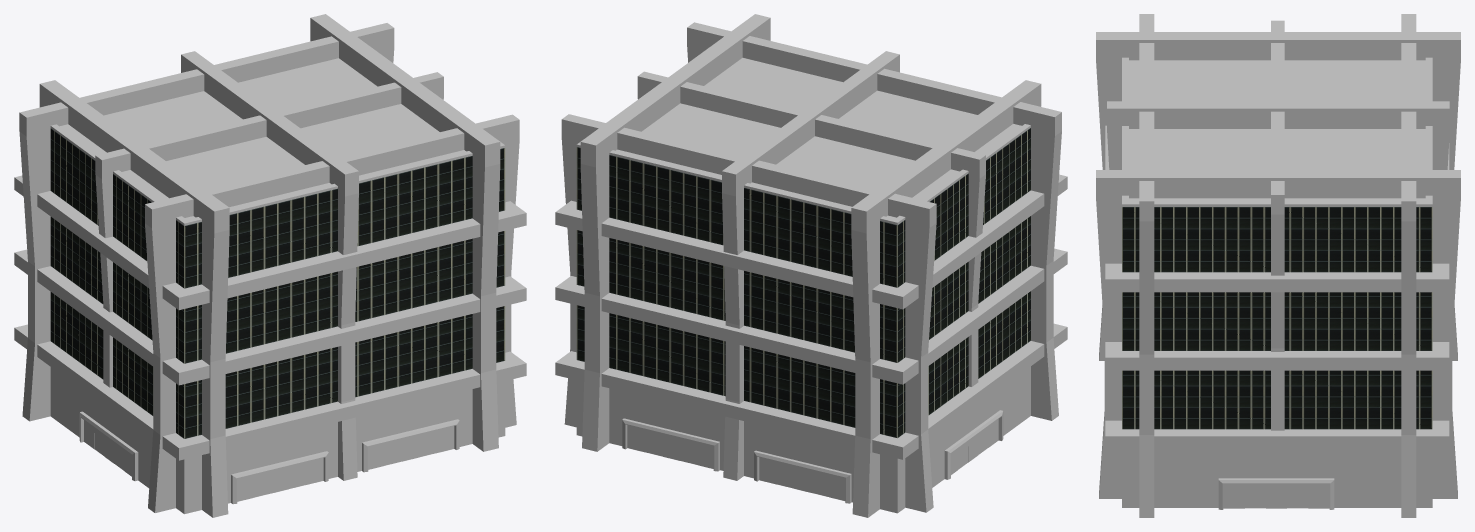
3 views of the same model, side by side, from view 1: azimuth 30°, elevation 25°; view 2: azimuth 150°, elevation 25°; view 3: azimuth 270°, elevation 25° (orthographic). The views are drawn at different scales.
Visible parts, largest first — view 1: BC-069; view 2: BC-069; view 3: BC-069.
Part boxes in pixels (x1=…): BC-069: x1=14, y1=14, x2=526, y2=517; BC-069: x1=555, y1=14, x2=1067, y2=517; BC-069: x1=1096, y1=14, x2=1460, y2=517.
Size of what is drawn, in the model's own units: 61.43 by 49.09 by 50.51.
